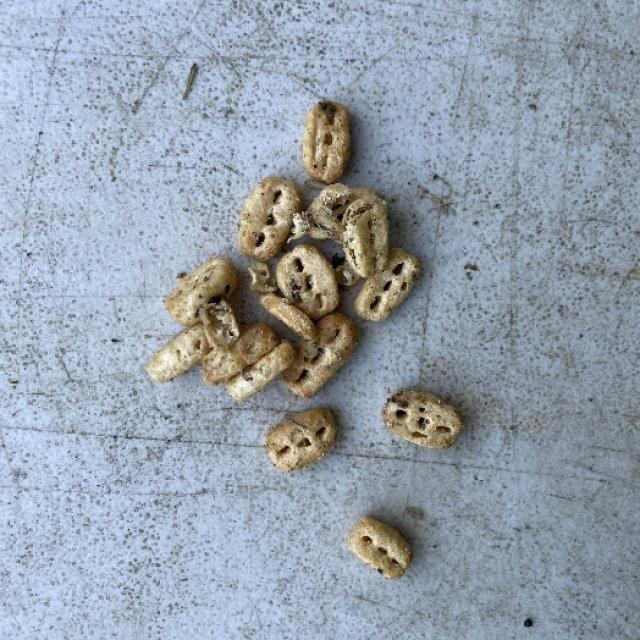organic: (162, 134, 428, 457), (338, 490, 438, 587)
